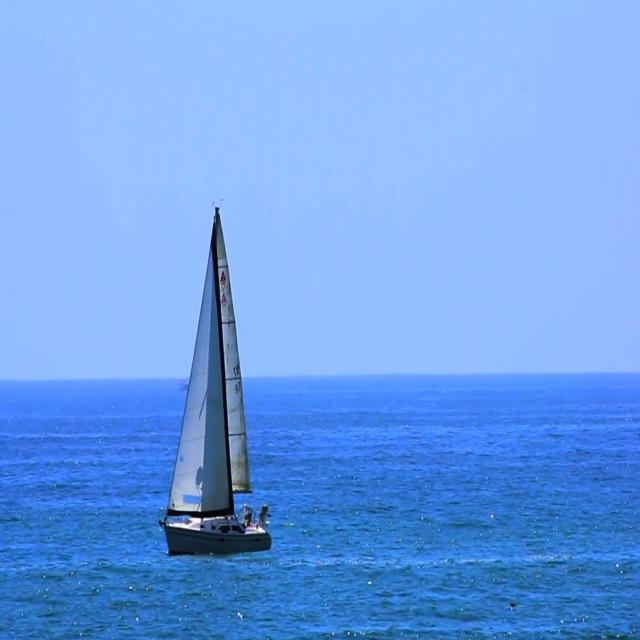houseboat: (176, 372, 192, 395)
sailboat: (162, 194, 275, 560)
